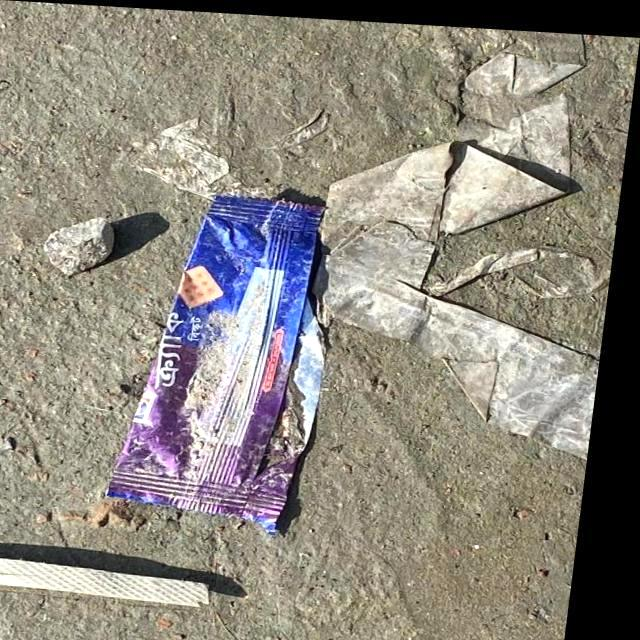packet: (141, 180, 366, 532)
